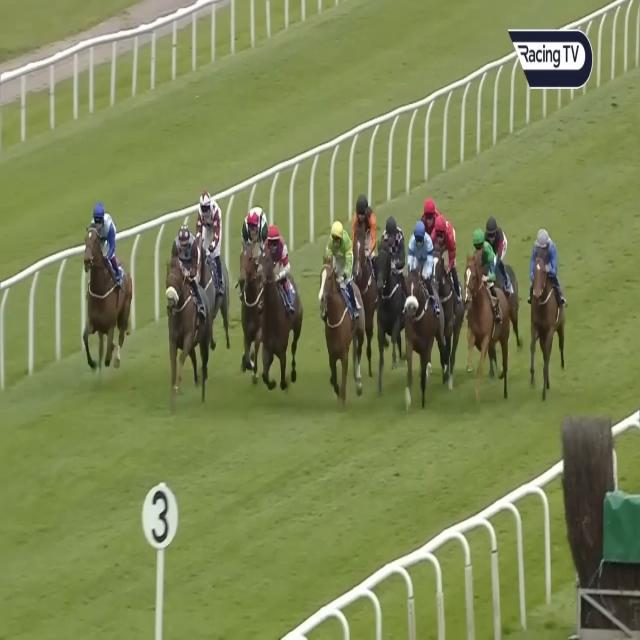horses-racing: (319, 221, 366, 402), (251, 230, 304, 386), (81, 202, 132, 362), (466, 221, 510, 392), (524, 225, 568, 394), (167, 223, 211, 389), (237, 202, 268, 381), (405, 220, 434, 392), (196, 189, 227, 349), (374, 224, 408, 365), (346, 197, 384, 316), (433, 214, 463, 364), (488, 208, 518, 318), (418, 192, 444, 235)
